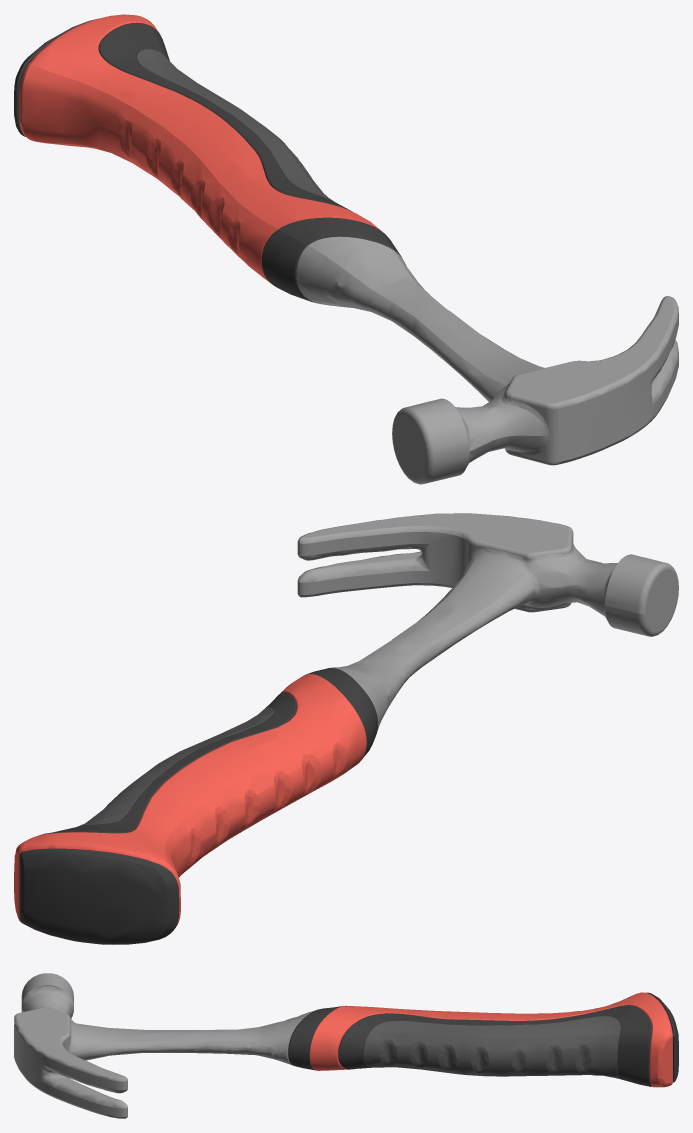
Rendered from Hammer.glb.
The picture shows the model from 3 angles, top to bottom: view 1: azimuth 30°, elevation 25°; view 2: azimuth 150°, elevation 25°; view 3: azimuth 270°, elevation 25°; orthographic projection. The views are drawn at different scales.
Parts seen in each view (by area): view 1: empty_5, empty_4, empty_2, empty_3; view 2: empty_5, empty_4, empty_2, empty_3; view 3: empty_5, empty_3, empty_2, empty_4.
Boxes of the visible parts, left/top/right/bottom form: empty_5: left=296, top=236, right=678, bottom=484; empty_4: left=19, top=14, right=387, bottom=285; empty_2: left=14, top=19, right=402, bottom=304; empty_3: left=136, top=49, right=334, bottom=201; empty_5: left=297, top=513, right=678, bottom=730; empty_4: left=14, top=674, right=366, bottom=942; empty_2: left=20, top=668, right=378, bottom=944; empty_3: left=78, top=706, right=273, bottom=826; empty_5: left=14, top=973, right=315, bottom=1118; empty_3: left=363, top=1016, right=620, bottom=1078; empty_2: left=288, top=992, right=678, bottom=1086; empty_4: left=309, top=992, right=672, bottom=1087.
Size of the model in its own units: 120 by 37.31 by 323.
